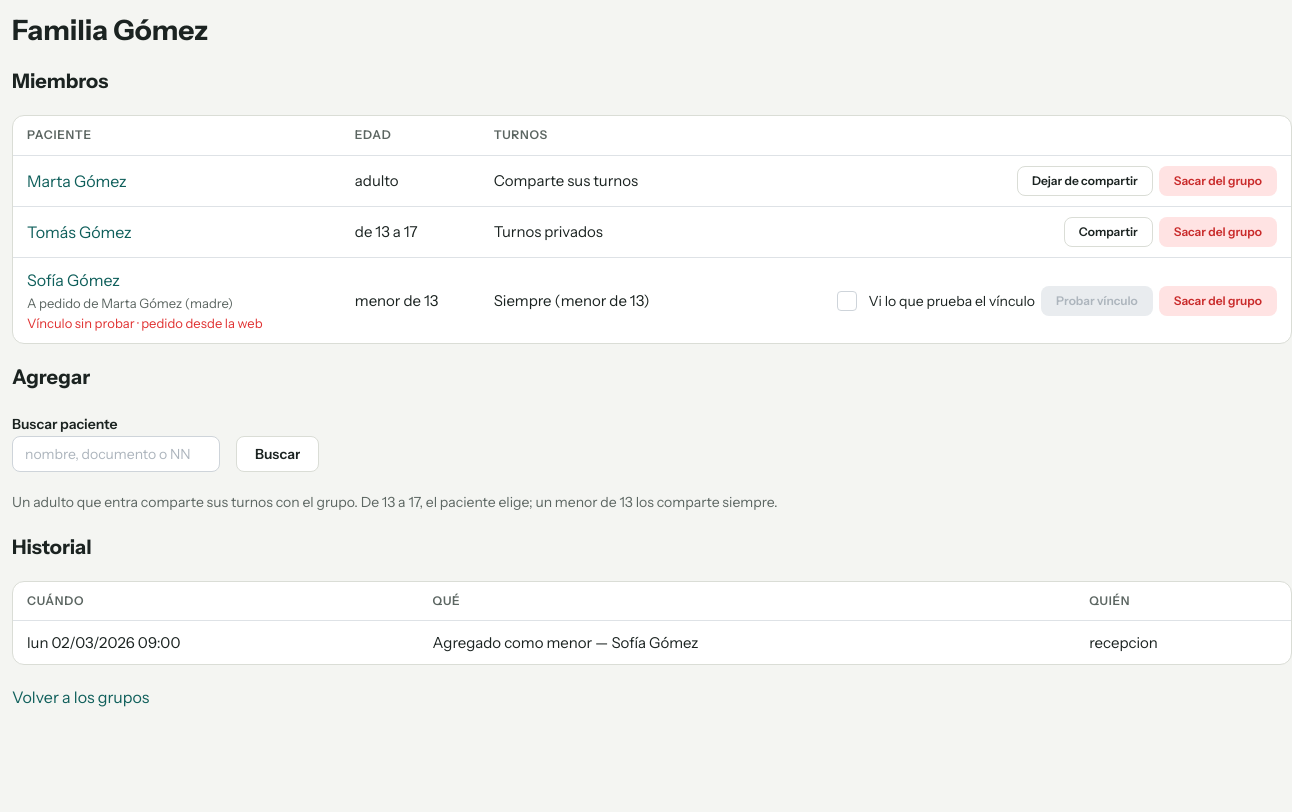
a family group › shows each member as their age says, and offers sharing only to whoever decides
Expected: the heading "Familia Gómez" is shown, left=12, top=13, right=208, bottom=47
Expected: the text "adulto" is shown, left=341, top=156, right=480, bottom=206
Click the button "Compartir". click: x=1108, y=232
box: left=1064, top=217, right=1153, bottom=247
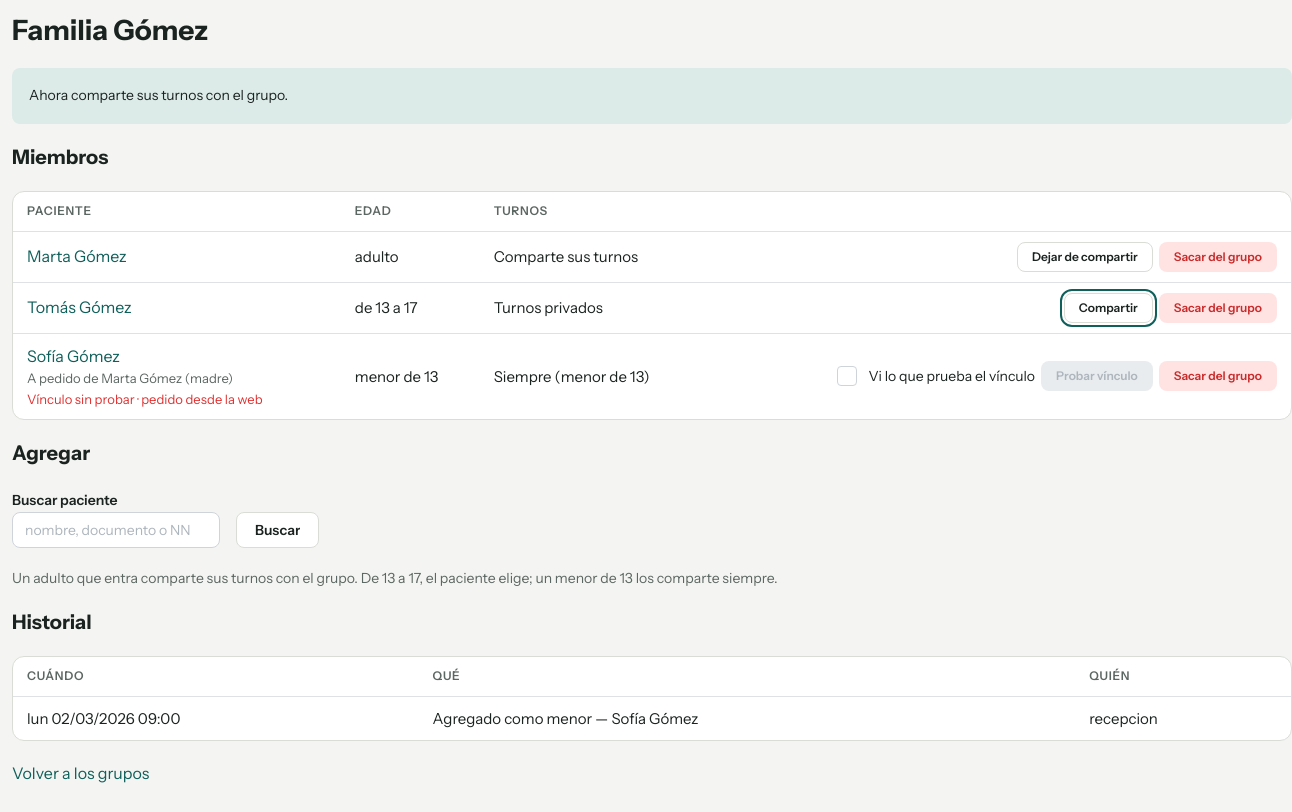
Expected: the message reads "Ahora comparte sus turnos con el grupo.", left=29, top=86, right=288, bottom=104
